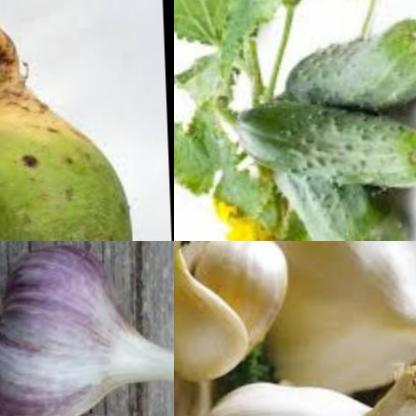cucumber: (225, 84, 416, 216), (272, 5, 416, 135), (258, 158, 416, 241)
garlic: (0, 241, 174, 416), (263, 241, 416, 395), (184, 357, 416, 416), (181, 241, 299, 357), (174, 250, 250, 390)
redka: (0, 27, 138, 241)
